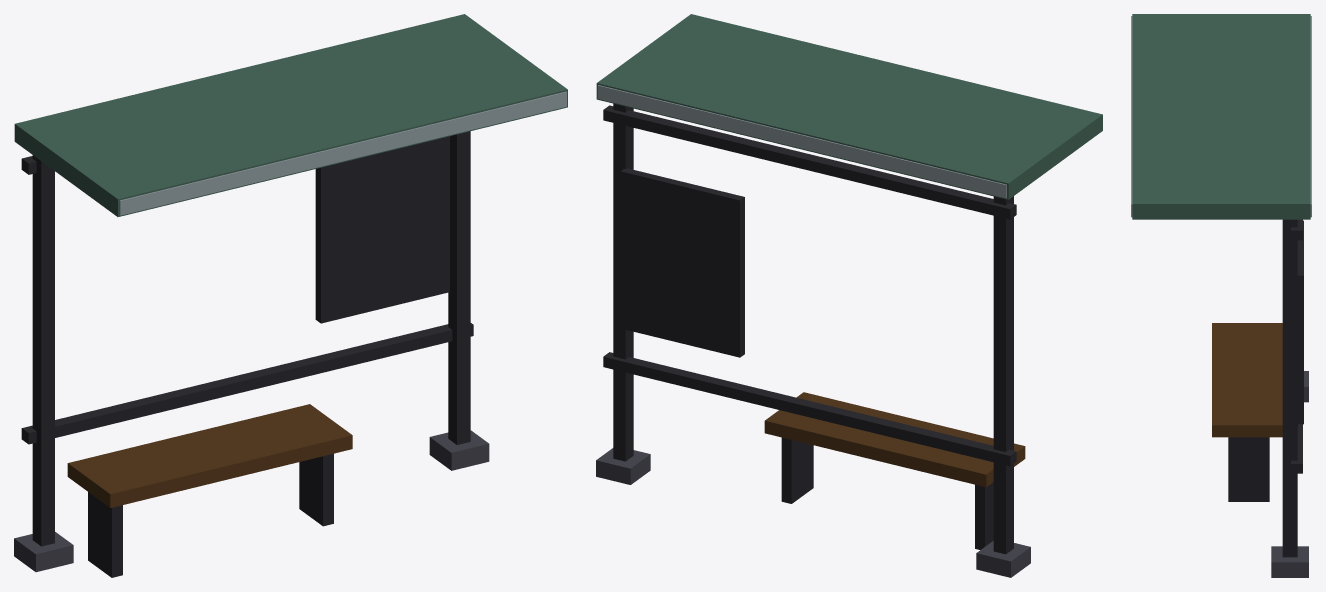
Rendered from mia-bus_stop.glb.
3 renders of one model, left to right at view 1: azimuth 30°, elevation 25°; view 2: azimuth 150°, elevation 25°; view 3: azimuth 270°, elevation 25°, orthographic. The views are drawn at different scales.
Visible parts, largest first — view 1: Body_iron, Body_sage, Body_wood, Body_steel, Body_stone; view 2: Body_iron, Body_sage, Body_wood, Body_steel, Body_stone; view 3: Body_sage, Body_iron, Body_wood, Body_stone, Body_steel.
Boxes of the visible parts, bbox=[...] form: Body_iron: bbox=[21, 131, 473, 577]; Body_sage: bbox=[14, 14, 567, 216]; Body_wood: bbox=[67, 404, 352, 507]; Body_steel: bbox=[119, 91, 566, 215]; Body_stone: bbox=[14, 430, 489, 572]; Body_iron: bbox=[603, 103, 1016, 554]; Body_sage: bbox=[596, 14, 1102, 199]; Body_wood: bbox=[764, 392, 1025, 487]; Body_steel: bbox=[597, 85, 1006, 198]; Body_stone: bbox=[596, 448, 1030, 577]; Body_sage: bbox=[1132, 14, 1310, 219]; Body_iron: bbox=[1228, 219, 1303, 557]; Body_wood: bbox=[1212, 323, 1282, 437]; Body_stone: bbox=[1271, 371, 1308, 577]; Body_steel: bbox=[1131, 16, 1311, 217].
Size of the model in its own units: 2.64 by 2.4 by 1.05.
